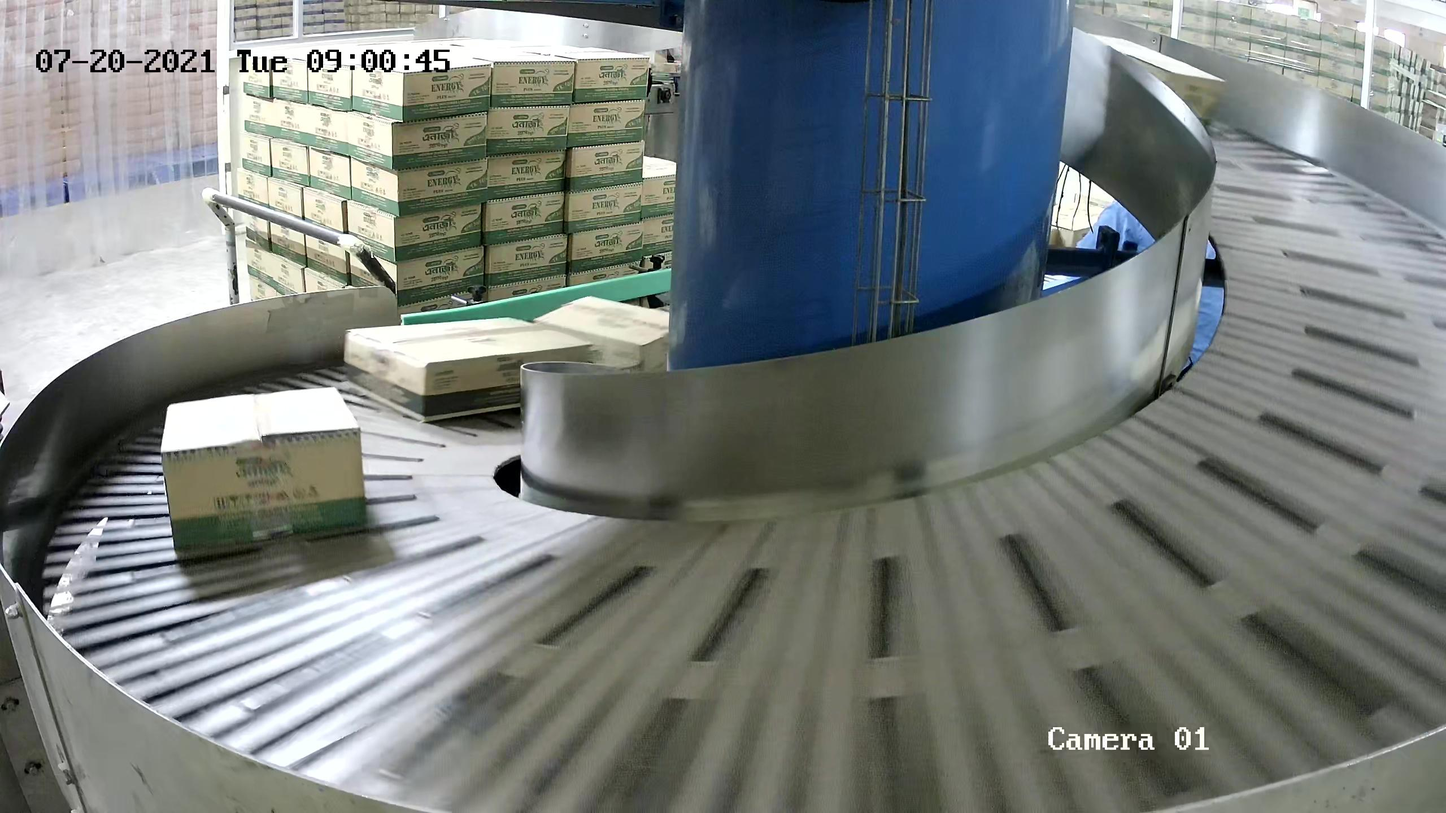Box: (160, 385, 369, 560), (344, 316, 596, 423), (532, 294, 691, 406)
